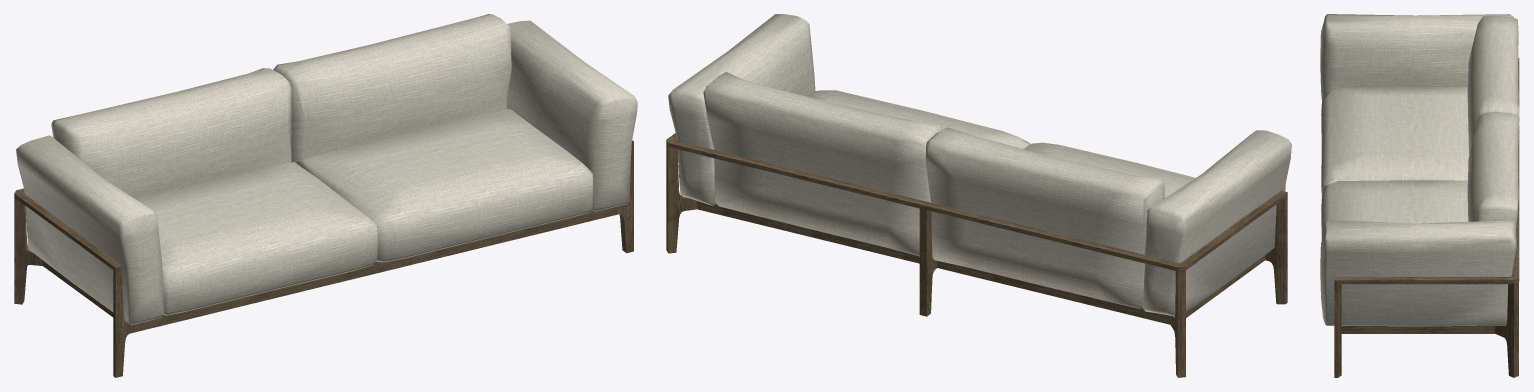
Rendered from sofa1.glb.
3 renders of one model, left to right at view 1: azimuth 30°, elevation 25°; view 2: azimuth 150°, elevation 25°; view 3: azimuth 270°, elevation 25°, orthographic. The views are drawn at different scales.
Visible parts, largest first — view 1: Object_2; view 2: Object_2; view 3: Object_2.
Part boxes in pixels (left/top/right/bottom): Object_2: left=14, top=14, right=637, bottom=377; Object_2: left=666, top=14, right=1291, bottom=377; Object_2: left=1320, top=14, right=1519, bottom=377.
Size of the model in its own units: 239 by 78.02 by 90.08.
Materials: 1 (1 with a texture image).
